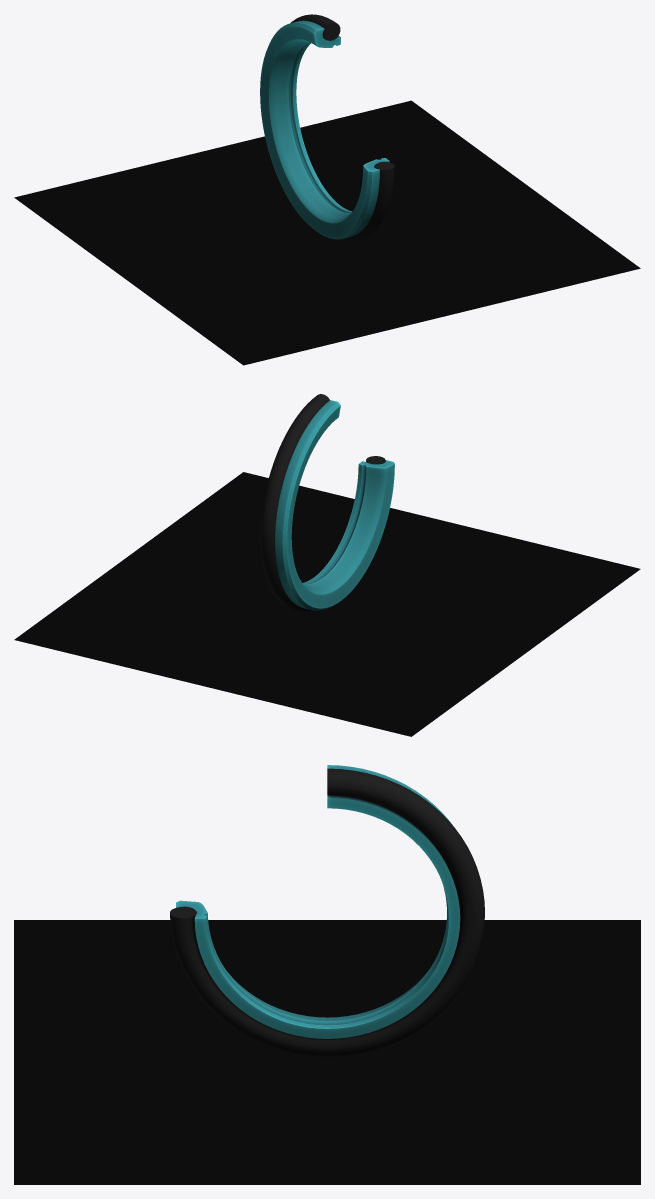
3 renders of one model, top to bottom at view 1: azimuth 30°, elevation 25°; view 2: azimuth 150°, elevation 25°; view 3: azimuth 270°, elevation 25°, orthographic. The views are drawn at different scales.
Visible parts, largest first — view 1: Plane001, Turcon® VL Seal® II_3/4th 1, Turcon® VL Seal® II_3/4th 2; view 2: Plane001, Turcon® VL Seal® II_3/4th 1, Turcon® VL Seal® II_3/4th 2; view 3: Plane001, Turcon® VL Seal® II_3/4th 2, Turcon® VL Seal® II_3/4th 1.
Part boxes in pixels (left/top/right/bottom): Plane001: left=14, top=100, right=640, bottom=365; Turcon® VL Seal® II_3/4th 1: left=260, top=20, right=389, bottom=239; Turcon® VL Seal® II_3/4th 2: left=290, top=14, right=394, bottom=240; Plane001: left=14, top=472, right=640, bottom=736; Turcon® VL Seal® II_3/4th 1: left=275, top=400, right=394, bottom=610; Turcon® VL Seal® II_3/4th 2: left=260, top=394, right=385, bottom=611; Plane001: left=14, top=920, right=640, bottom=1184; Turcon® VL Seal® II_3/4th 2: left=170, top=768, right=484, bottom=1056; Turcon® VL Seal® II_3/4th 1: left=176, top=765, right=460, bottom=1038.
Bounding box in the file's own units: 0.7874 × 0.3958 × 0.7874.
3 materials, 3 textured.
